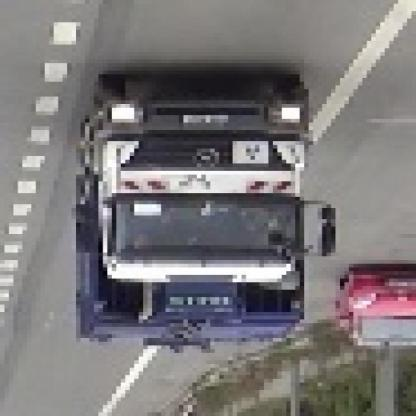truck: (64, 75, 332, 358)
